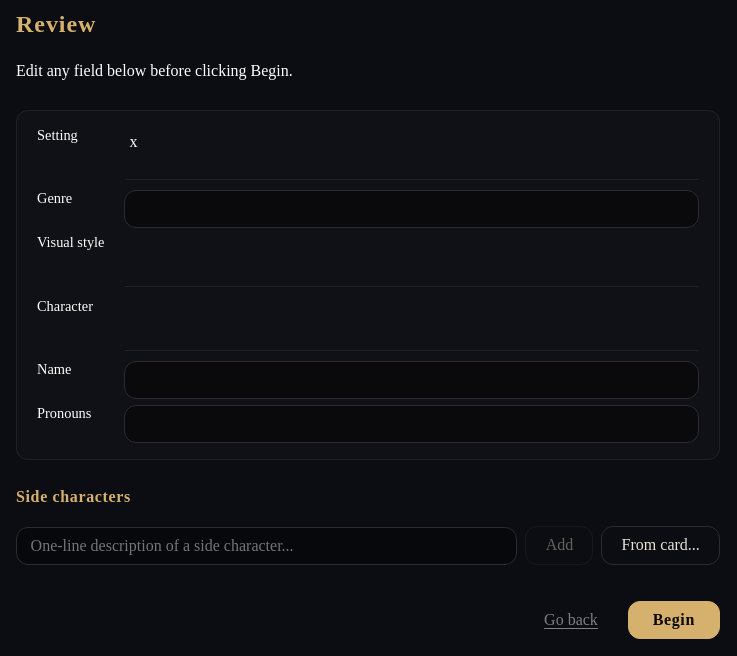
ConfirmStep — Go back › disables once Begin has been clicked
The image size is (737, 656).
Expected: the button with test id "confirm-go-back" is enabled, [527,601,615,639]
Click the button with test id "confirm-begin" at coordinates (674, 620), box [628,601,720,639]
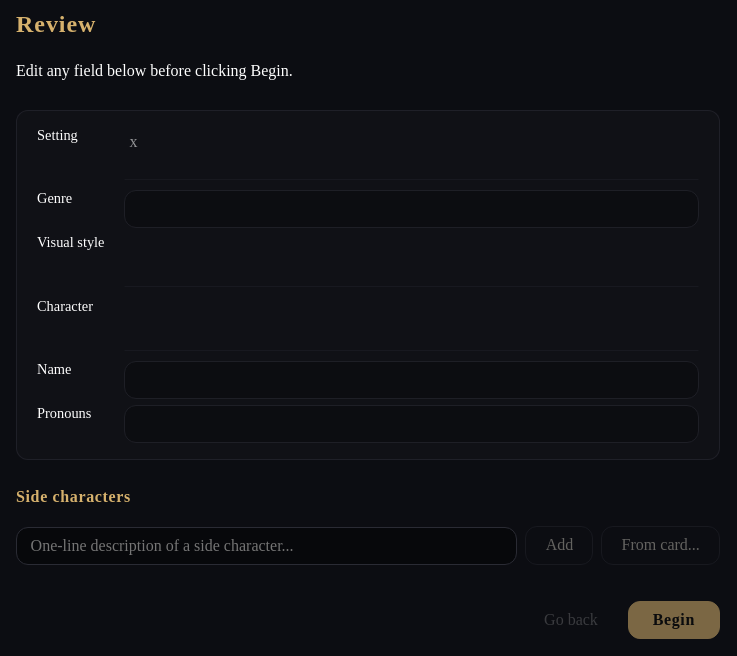
Now the button with test id "confirm-go-back" is disabled, box [527,601,615,639]
